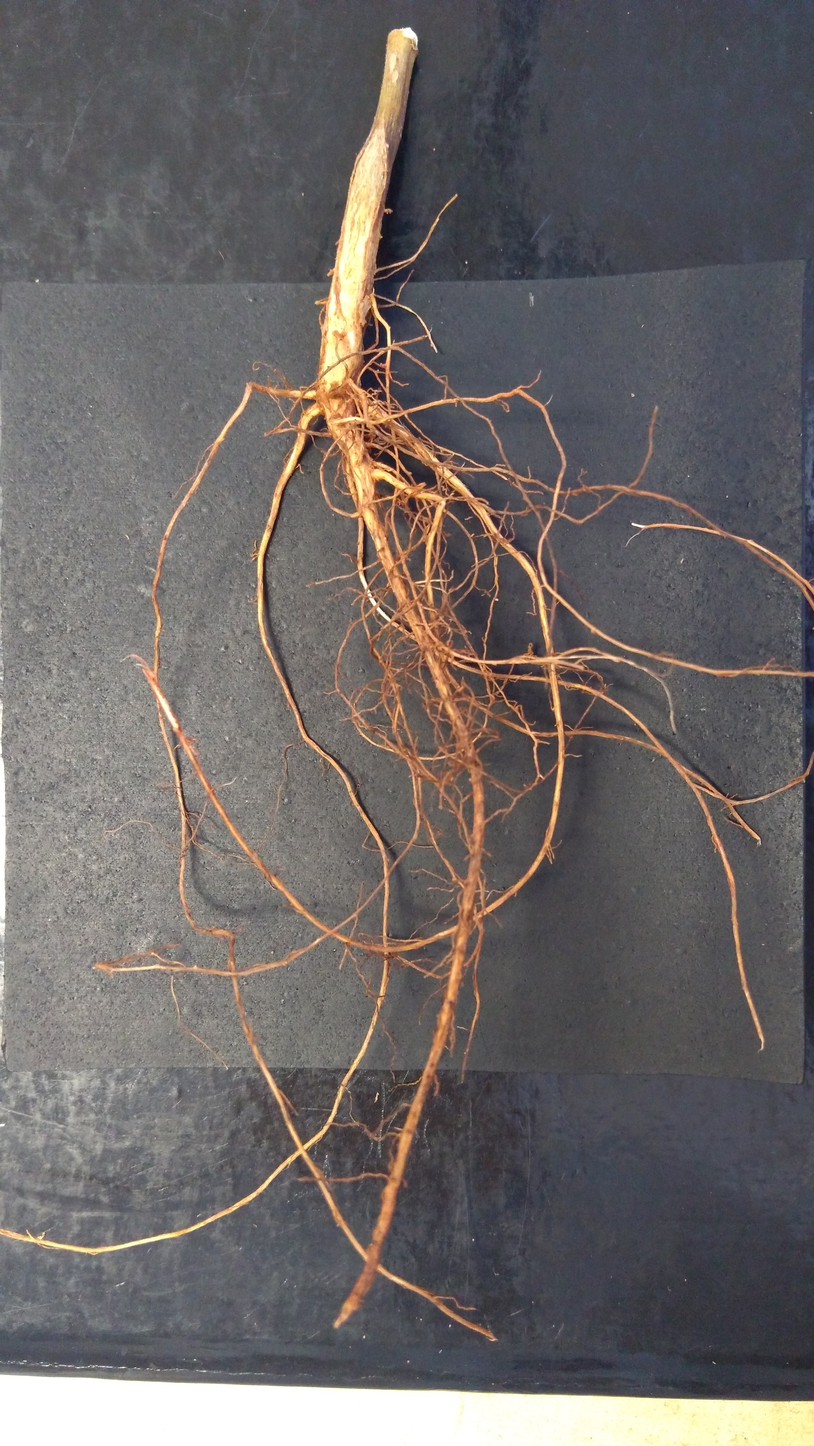nodule: (447, 755, 479, 770), (358, 294, 372, 327), (316, 387, 331, 410), (368, 430, 376, 440)
